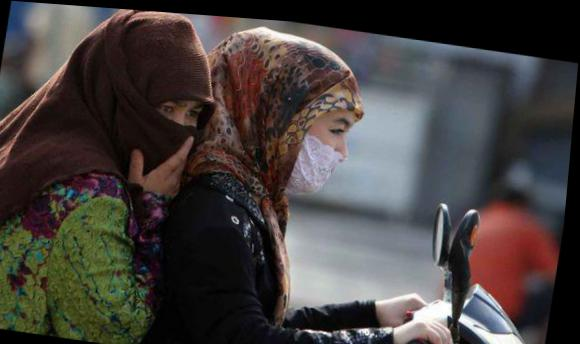OK: (125, 77, 211, 181)
WRONG: (282, 95, 360, 196)
